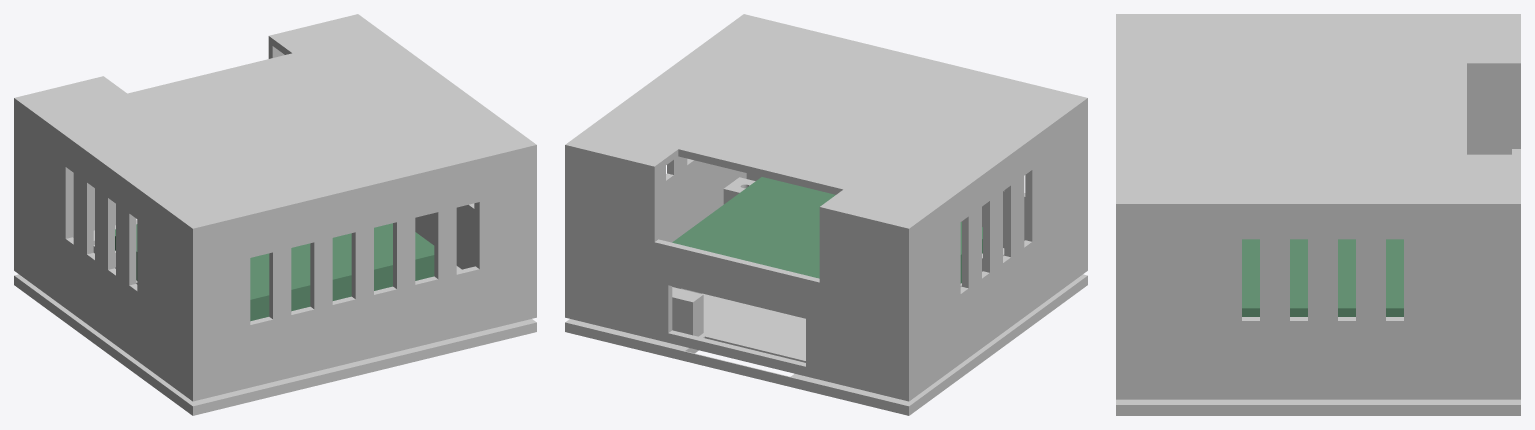
Rendered from assembly_preview_V1_reference.glb.
The picture shows the model from 3 angles, left to right: view 1: azimuth 30°, elevation 25°; view 2: azimuth 150°, elevation 25°; view 3: azimuth 270°, elevation 25°; orthographic projection. The views are drawn at different scales.
Parts seen in each view (by area): view 1: cover, backplate, jetson_mockup; view 2: cover, backplate, jetson_mockup; view 3: cover, backplate, jetson_mockup.
Boxes of the visible parts, bbox=[...] form: cover: bbox=[14, 14, 536, 401]; backplate: bbox=[14, 220, 536, 415]; jetson_mockup: bbox=[115, 223, 434, 321]; cover: bbox=[565, 14, 1087, 401]; backplate: bbox=[565, 248, 1087, 415]; jetson_mockup: bbox=[672, 177, 982, 283]; cover: bbox=[1116, 14, 1520, 399]; backplate: bbox=[1116, 399, 1520, 415]; jetson_mockup: bbox=[1242, 239, 1403, 316].
Size of the model in its own units: 150 by 78 by 135.
